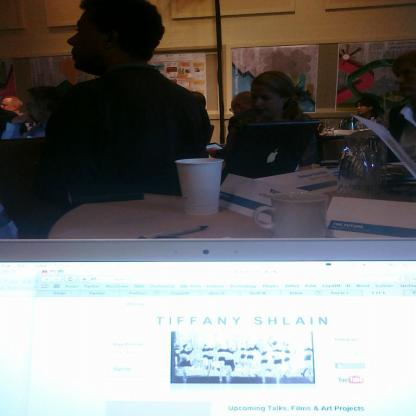board: (0, 238, 416, 403), (221, 121, 319, 184), (174, 155, 226, 220)
